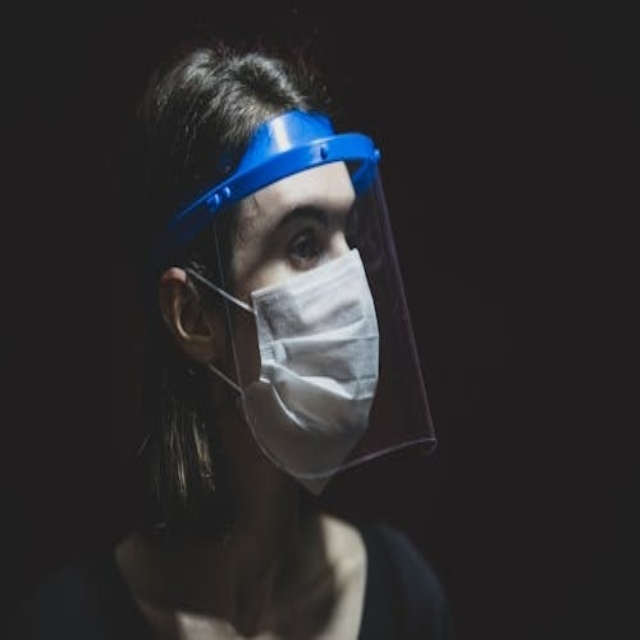Mascara: (219, 245, 383, 493)
Sin_gafas: (270, 198, 364, 267)
